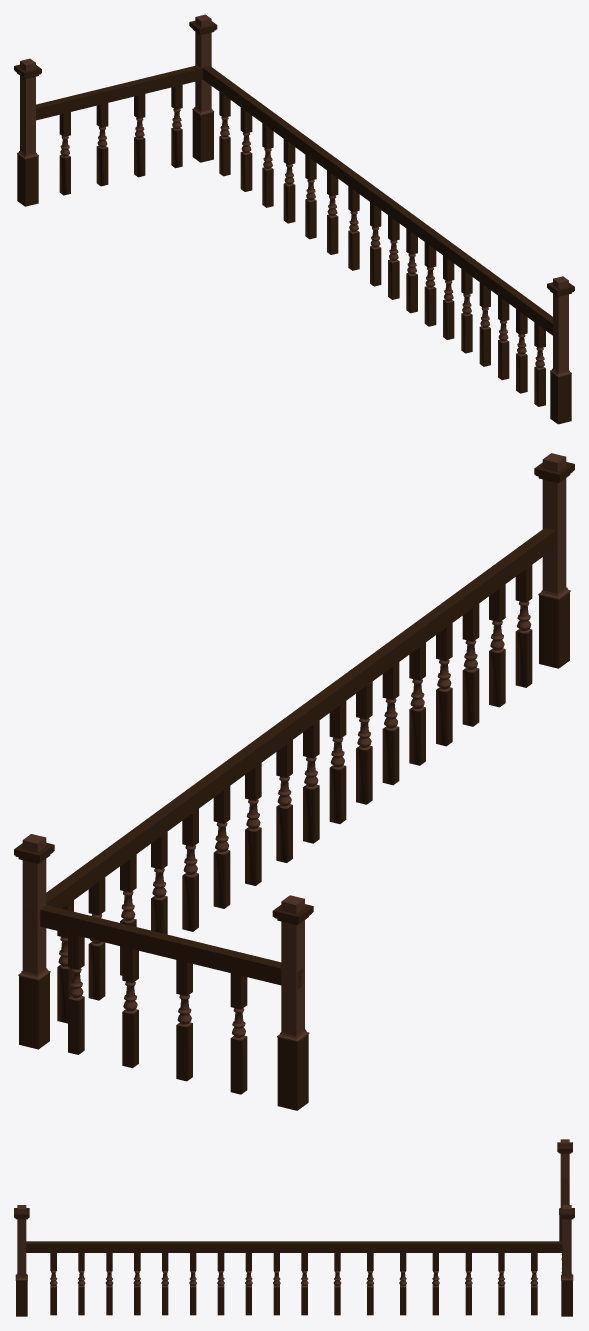
Rendered from UpperStairRailUV.fbx.
3 renders of one model, top to bottom at view 1: azimuth 30°, elevation 25°; view 2: azimuth 150°, elevation 25°; view 3: azimuth 270°, elevation 25°, orthographic. The views are drawn at different scales.
Parts seen in each view (by area): view 1: upperrailing; view 2: upperrailing; view 3: upperrailing.
Part boxes in pixels (left/top/right/bottom): upperrailing: left=14, top=14, right=574, bottom=424; upperrailing: left=14, top=453, right=574, bottom=1110; upperrailing: left=14, top=1139, right=574, bottom=1316.
Size of the model in its own units: 116 by 80.01 by 380.
